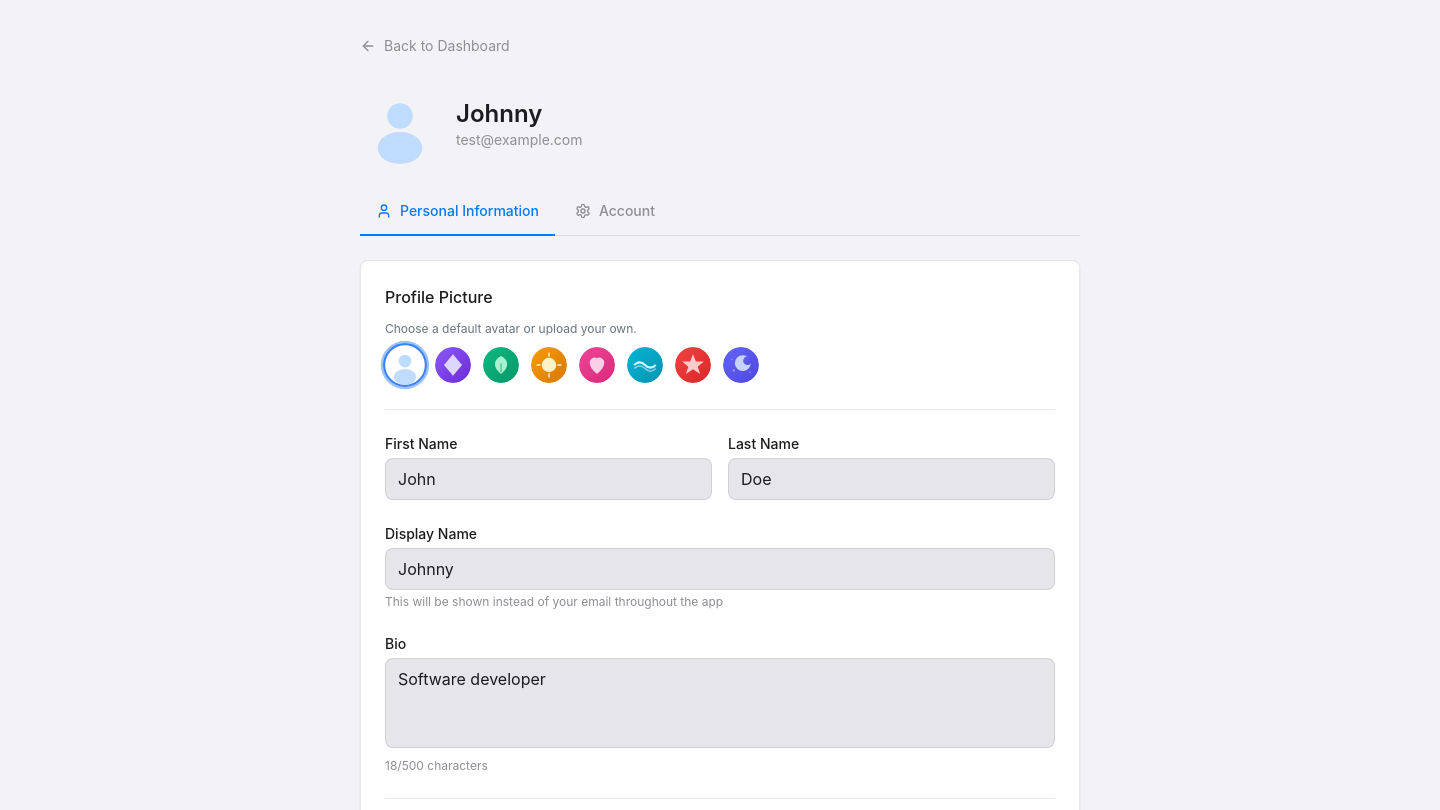
Test case: ProfilePage › Change Email Modal › opens change email modal when Change button is clicked
Click the button "Account": [615, 212] box [559,188,671,236]
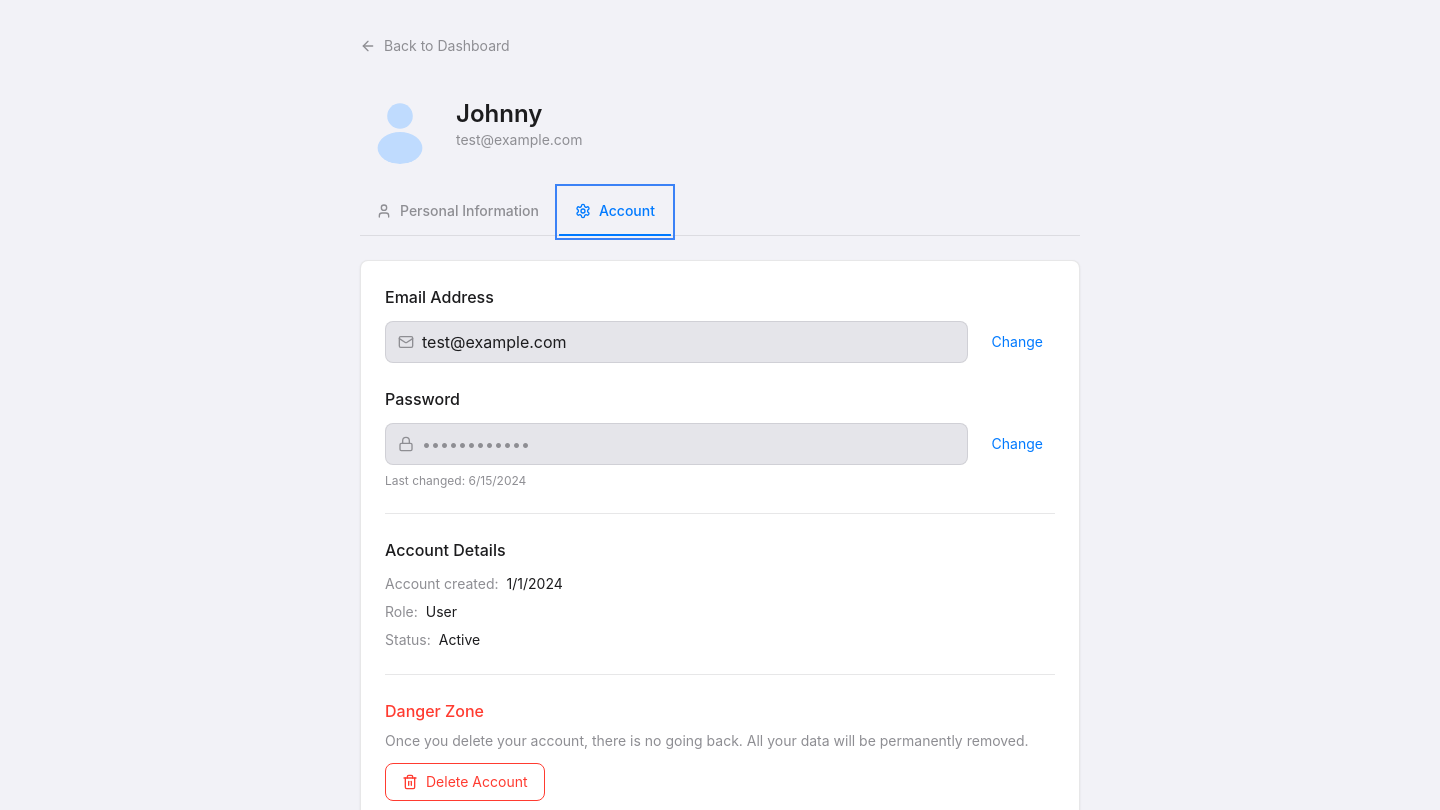
Result: the heading "Email Address" is shown at [385,287,494,307]
Click the 1st button "Change": [1017, 342] box [980,324,1055,360]
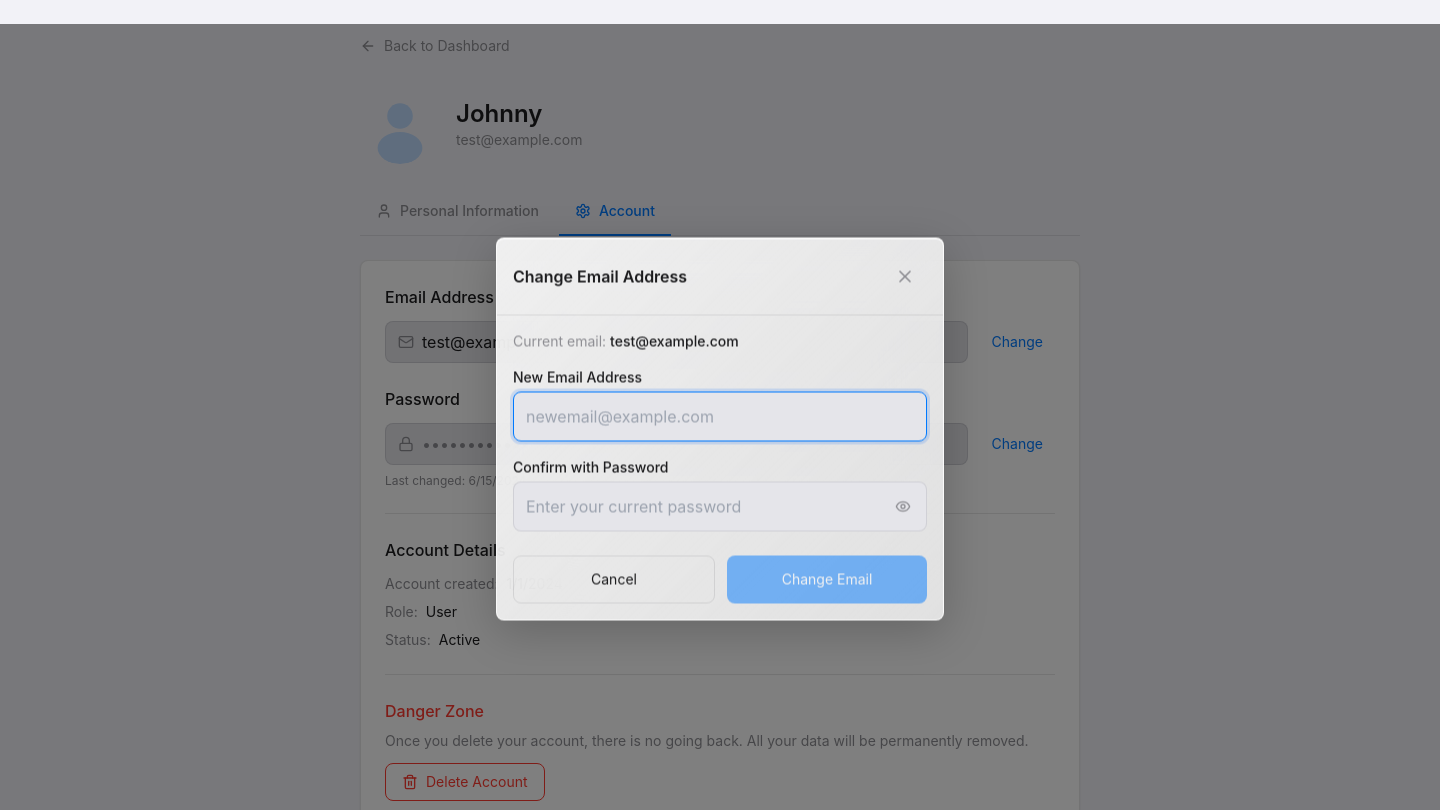
Result: the heading "Change Email Address" is shown at [513,264,687,288]
